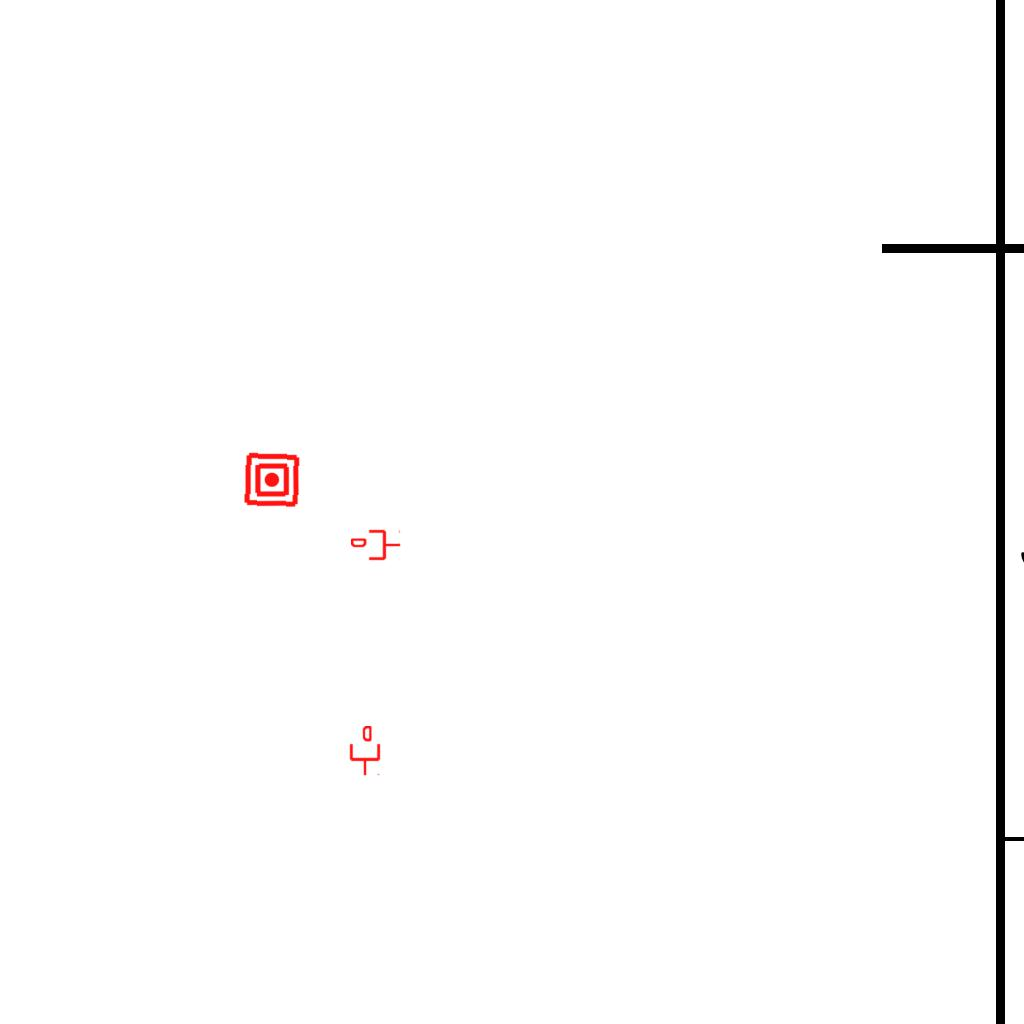Datenanschluss_einfach: (348, 726, 382, 776), (351, 528, 401, 562)
NAM-Nichtautomatischer_Melder: (243, 451, 301, 509)
